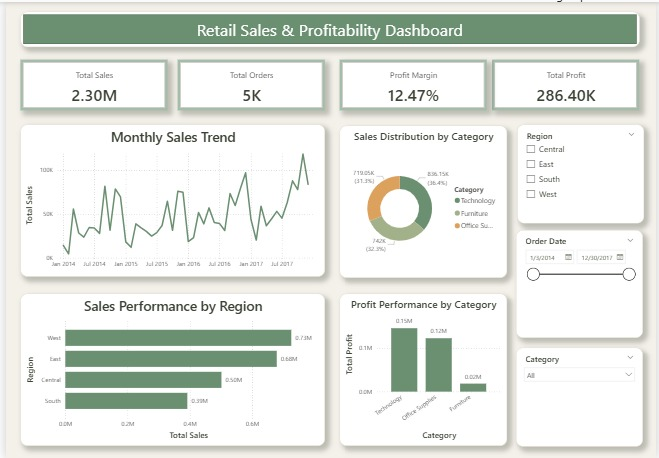

The dashboard page shown, as its layout file describes it:
{"tool":"powerbi","page":{"name":"Sales Overview","canvas":[1280,900],"ordinal":0},"visuals":[{"type":"cardVisual","fields":{"Data":["Superstore.Total Sales"]},"box":[28,114,290,100],"z":0},{"type":"cardVisual","fields":{"Data":["Superstore.Total Profit"]},"box":[958,114,290,100],"z":1000},{"type":"cardVisual","fields":{"Data":["Superstore.Total Orders"]},"box":[338,114,290,100],"z":2000},{"type":"cardVisual","fields":{"Data":["Superstore.Profit Margin"]},"box":[658,114,290,100],"z":3000},{"type":"lineChart","title":"Monthly Sales Trend","fields":{"Y":["Superstore.Total Sales"],"Category":["Superstore.Order Date.Variation.Date Hierarchy.Year","Superstore.Order Date.Variation.Date Hierarchy.Month"]},"box":[28,242,600,300],"z":4000},{"type":"clusteredBarChart","title":"Sales Performance by Region","fields":{"Category":["Superstore.Region"],"Y":["Superstore.Total Sales"]},"box":[27.5,575,600,300],"z":5000},{"type":"donutChart","title":"Sales Distribution by Category","fields":{"Category":["Superstore.Category"],"Y":["Superstore.Total Sales"]},"box":[657.5,242.5,330,300],"z":6000},{"type":"clusteredColumnChart","title":"Profit Performance by Category","fields":{"Category":["Superstore.Category"],"Y":["Superstore.Total Profit"]},"box":[657.5,575,330,300],"z":7000},{"type":"slicer","fields":{"Values":["Superstore.Region"]},"box":[1006,242,250,195],"z":8000},{"type":"slicer","fields":{"Values":["Superstore.Order Date"]},"box":[1005,450,250,212.5],"z":9000},{"type":"slicer","fields":{"Values":["Superstore.Category"]},"box":[1005,680,250,195],"z":10000},{"type":"shape","box":[28,18,1220,70],"z":11000}]}

Visuals, with their boxes in screenshot pixels (x1, y1, x2, y2), scaled from the page's 1280x900 canvas onto the 659x458 screenshot:
cardVisual - Superstore.Total Sales: <box>14,58,164,109</box>
cardVisual - Superstore.Total Profit: <box>493,58,643,109</box>
cardVisual - Superstore.Total Orders: <box>174,58,323,109</box>
cardVisual - Superstore.Profit Margin: <box>339,58,488,109</box>
"Monthly Sales Trend" lineChart: <box>14,123,323,276</box>
"Sales Performance by Region" clusteredBarChart: <box>14,293,323,445</box>
"Sales Distribution by Category" donutChart: <box>339,123,508,276</box>
"Profit Performance by Category" clusteredColumnChart: <box>339,293,508,445</box>
slicer - Superstore.Region: <box>518,123,647,222</box>
slicer - Superstore.Order Date: <box>517,229,646,337</box>
slicer - Superstore.Category: <box>517,346,646,445</box>
shape: <box>14,9,643,45</box>
